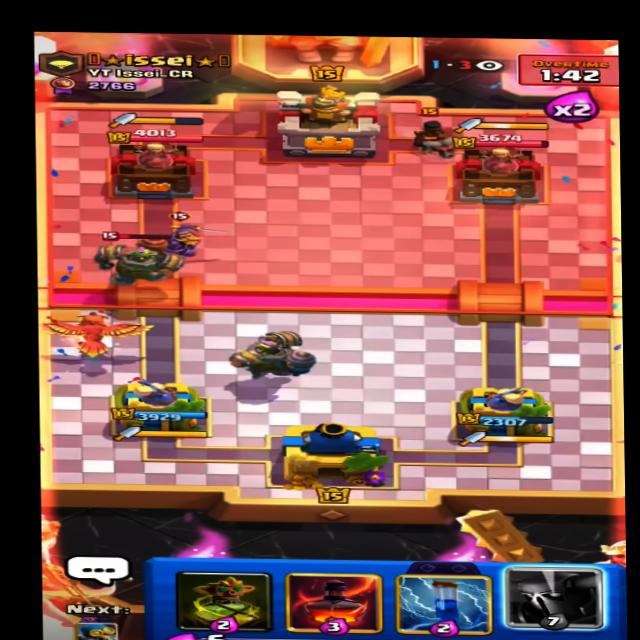evo-knight: (150, 204, 232, 259)
goblin-machine: (97, 231, 187, 292)
ram-rider: (407, 109, 456, 158)
